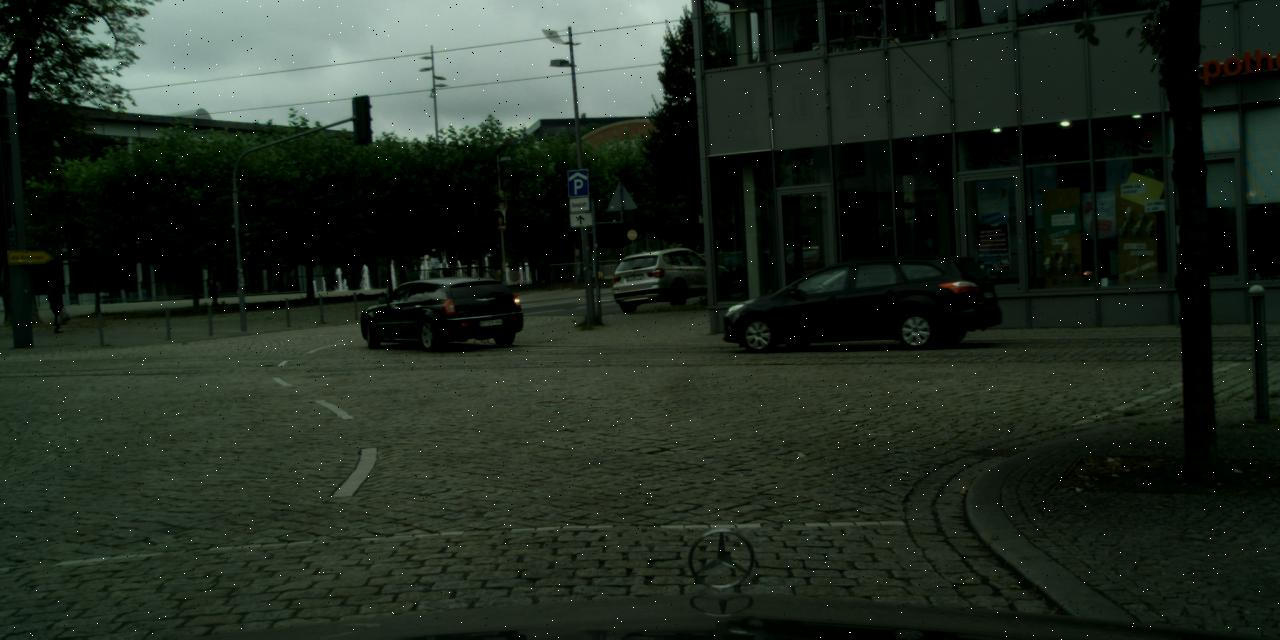ped: (46, 281, 66, 331)
